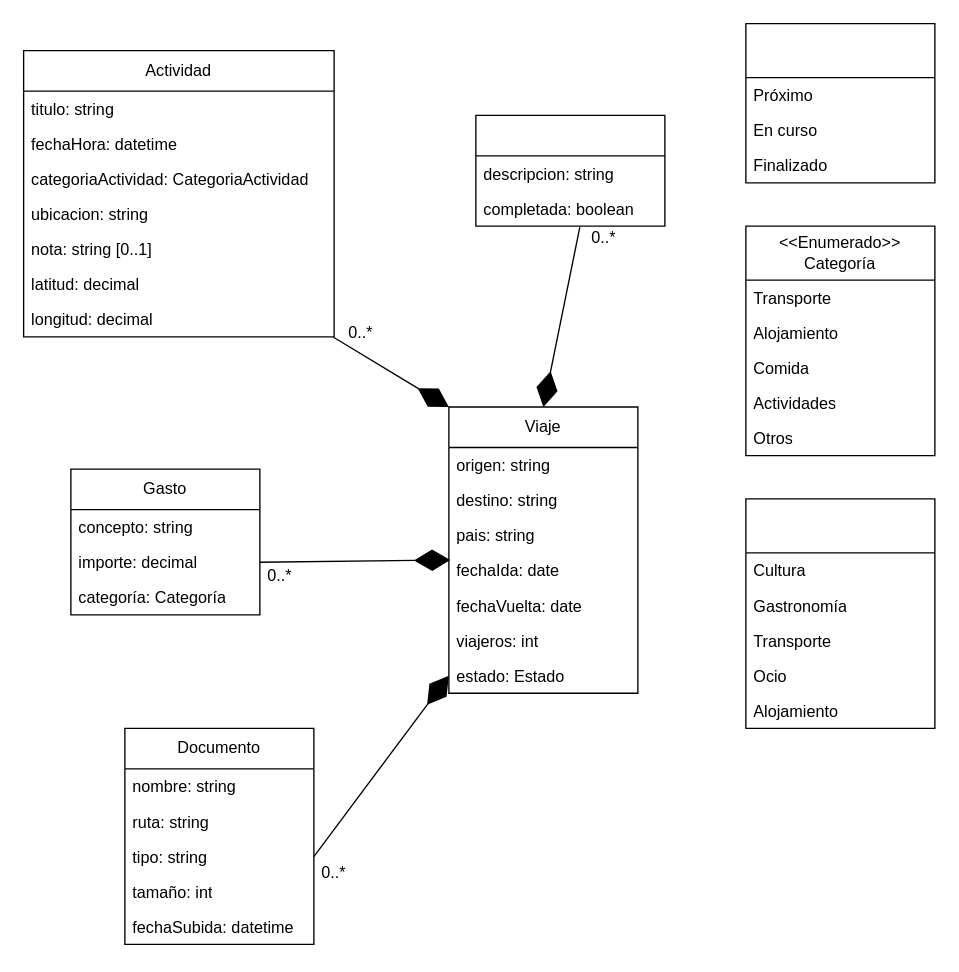
The diagram is 959 pixels wide and 972 high, and some of its shapes have lost their labels. Here are the shapes that lost their labels. From the top down, the box of each, then its label:
(745, 22, 935, 183): <<Enumerado>> Estado
(475, 114, 665, 226): Tarea
(745, 497, 935, 728): <<Enumerado>> CategoríaActividad
